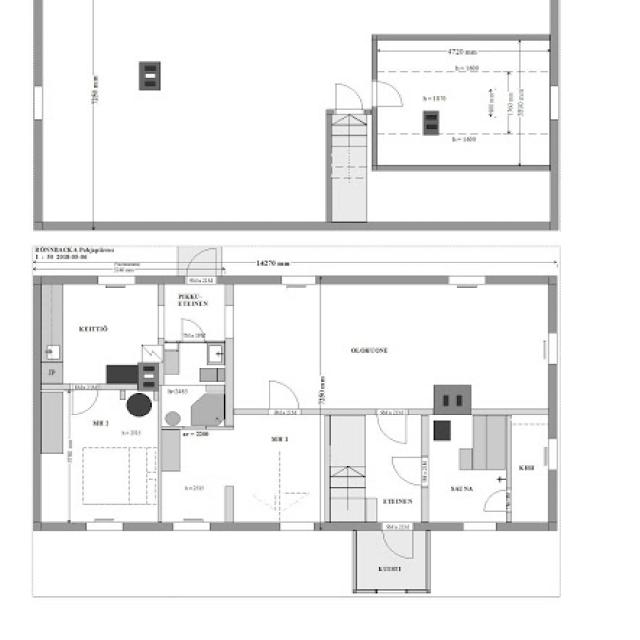door: (185, 246, 217, 285), (383, 522, 414, 562), (375, 408, 407, 446), (391, 457, 428, 486), (270, 381, 298, 416), (336, 83, 364, 115), (72, 384, 98, 415), (372, 81, 404, 106), (181, 319, 205, 345), (485, 491, 512, 512)
